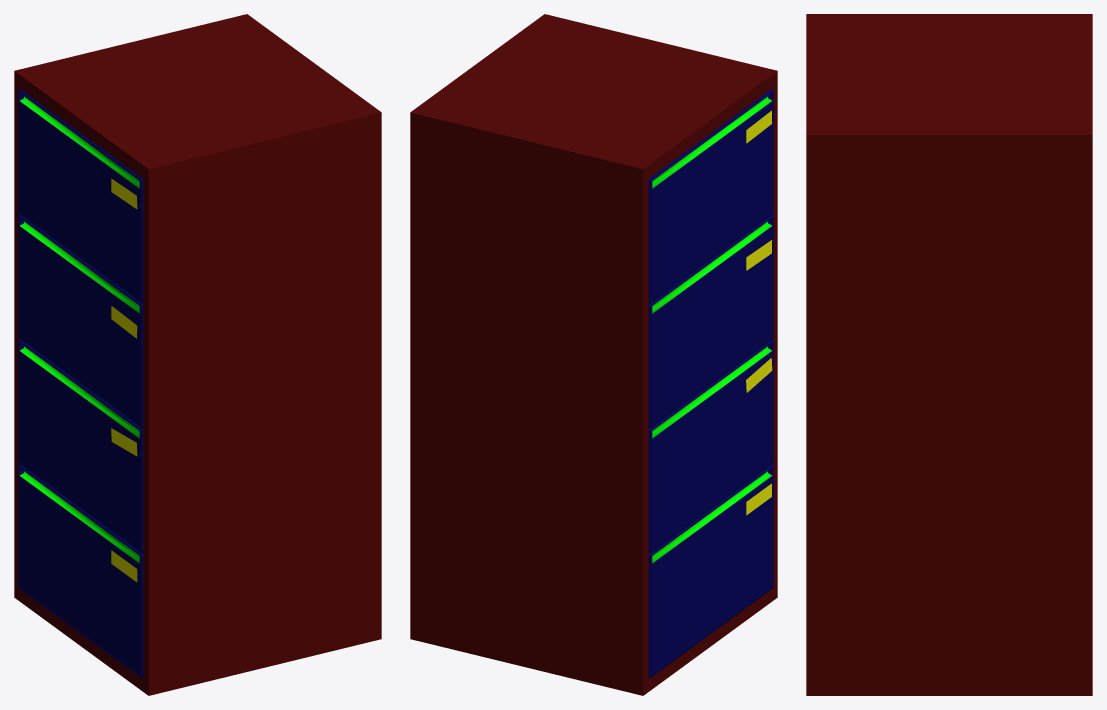
The model's file is filecabinet.fbx.
3 views of the same model, side by side, from view 1: azimuth 30°, elevation 25°; view 2: azimuth 150°, elevation 25°; view 3: azimuth 270°, elevation 25° (orthographic). The views are drawn at different scales.
Parts seen in each view (by area): view 1: FileCabinet; view 2: FileCabinet; view 3: FileCabinet.
Boxes of the visible parts, x1,y1,x2,y2 form: FileCabinet: (14,14,381,695); FileCabinet: (410,14,777,695); FileCabinet: (806,14,1092,695).
Size of the model in its own units: 59.95 by 128 by 59.15.
